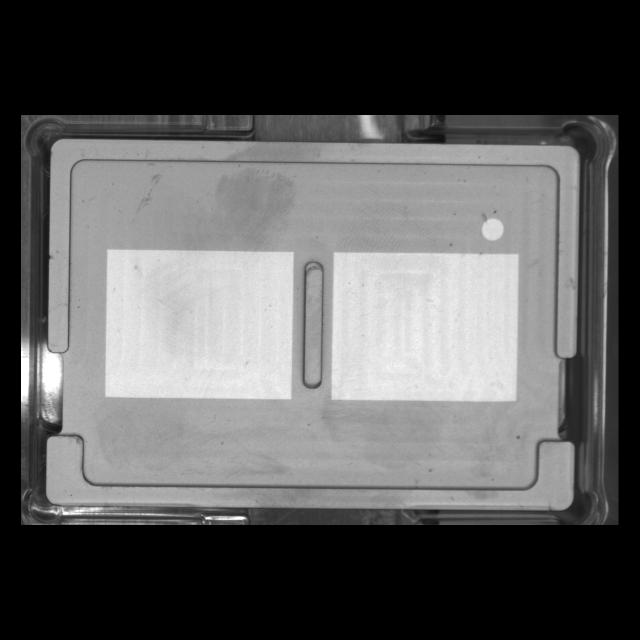door: (38, 421, 591, 517)
point: (472, 208, 512, 246)
